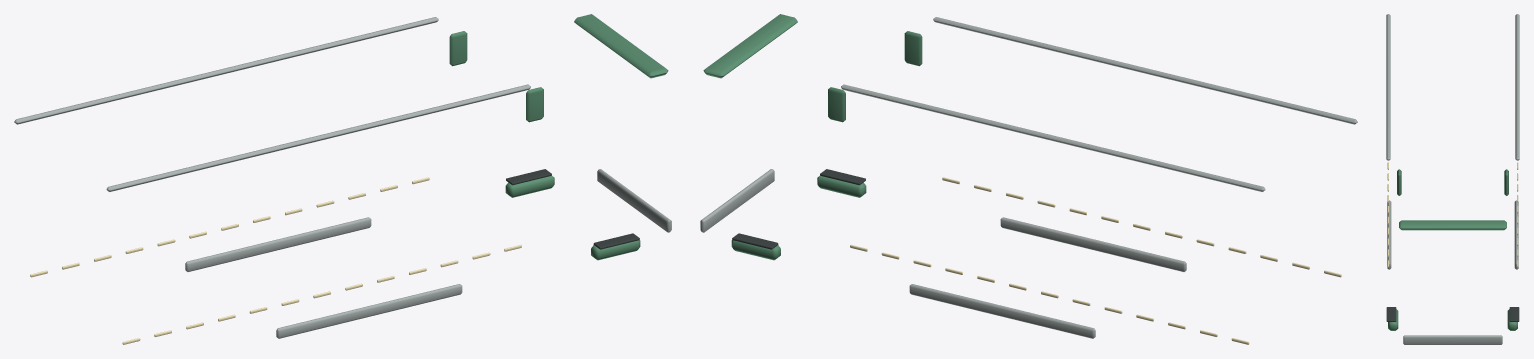
Rendered from acabado-camion.glb.
3 views of the same model, side by side, from view 1: azimuth 30°, elevation 25°; view 2: azimuth 150°, elevation 25°; view 3: azimuth 270°, elevation 25° (orthographic). The views are drawn at different scales.
Visible parts, largest first — view 1: Aluminio satinado, Verde lacado, Reflectante marfil, Grafito; view 2: Aluminio satinado, Verde lacado, Reflectante marfil, Grafito; view 3: Aluminio satinado, Verde lacado, Grafito, Reflectante marfil.
Boxes of the visible parts, x1=… form: Aluminio satinado: x1=14, y1=17, x2=671, y2=338; Verde lacado: x1=449, y1=14, x2=668, y2=260; Reflectante marfil: x1=30, y1=177, x2=521, y2=344; Grafito: x1=506, y1=169, x2=639, y2=249; Aluminio satinado: x1=700, y1=17, x2=1357, y2=338; Verde lacado: x1=703, y1=14, x2=922, y2=260; Reflectante marfil: x1=850, y1=177, x2=1341, y2=344; Grafito: x1=732, y1=169, x2=865, y2=249; Aluminio satinado: x1=1386, y1=14, x2=1519, y2=344; Verde lacado: x1=1388, y1=169, x2=1517, y2=330; Grafito: x1=1386, y1=307, x2=1519, y2=321; Reflectante marfil: x1=1387, y1=162, x2=1518, y2=267.
Size of the model in its own units: 8.33 by 2.68 by 2.38.
